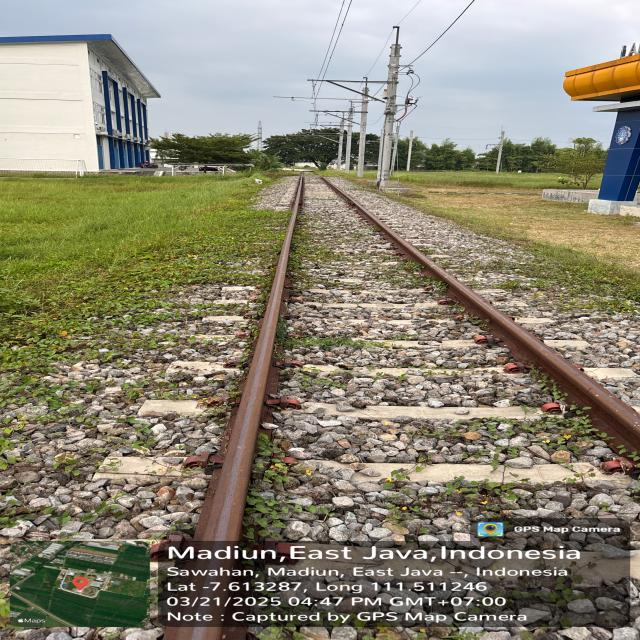rail-detection: (322, 180, 640, 451), (165, 180, 303, 640)
